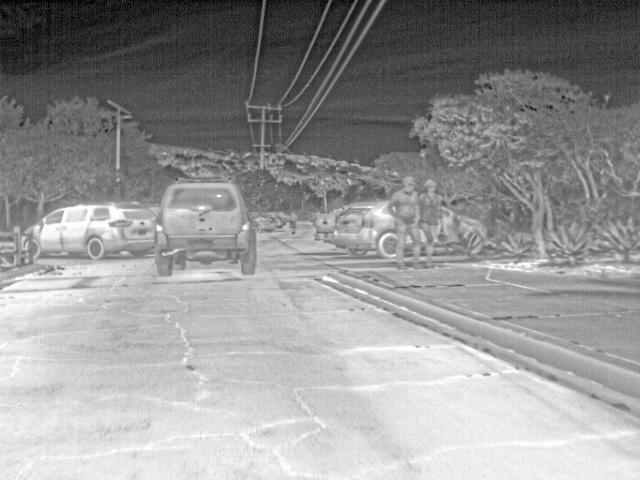car: (153, 174, 257, 276), (21, 200, 153, 260), (336, 198, 392, 258), (443, 204, 486, 254), (314, 211, 337, 243), (253, 213, 274, 230), (270, 210, 284, 227)
person: (389, 174, 419, 273), (418, 176, 444, 270), (287, 212, 299, 235)
